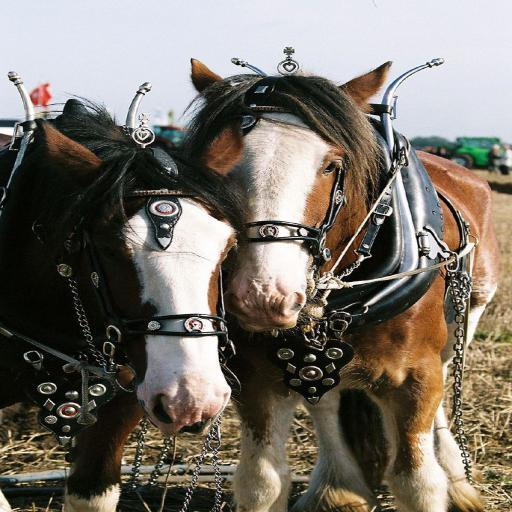horse: (168, 60, 506, 512), (0, 92, 251, 512)
